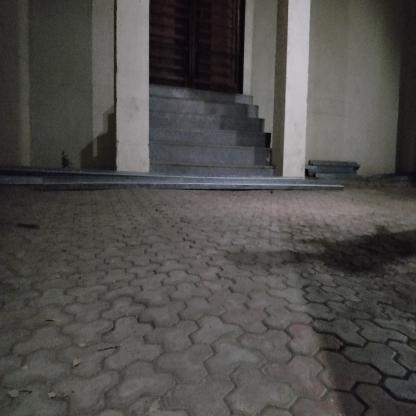stairs: (150, 83, 255, 181)
